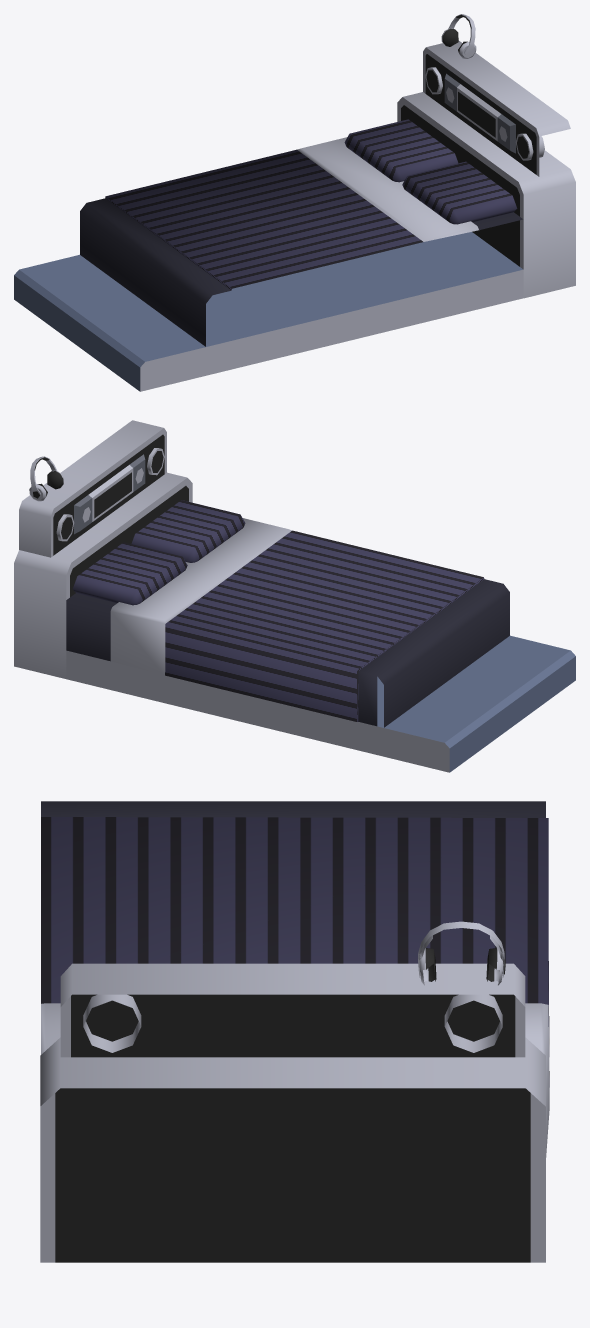
The model's file is interior_E_011.fbx.
3 renders of one model, top to bottom at view 1: azimuth 30°, elevation 25°; view 2: azimuth 150°, elevation 25°; view 3: azimuth 270°, elevation 25°, orthographic. The views are drawn at different scales.
Visible parts, largest first — view 1: interior_E_011; view 2: interior_E_011; view 3: interior_E_011.
Part boxes in pixels (x1,y1,x2,y2): interior_E_011: (14,14,575,391); interior_E_011: (14,420,575,772); interior_E_011: (40,801,549,1262).
Size of the model in its own units: 326 by 138 by 165.
